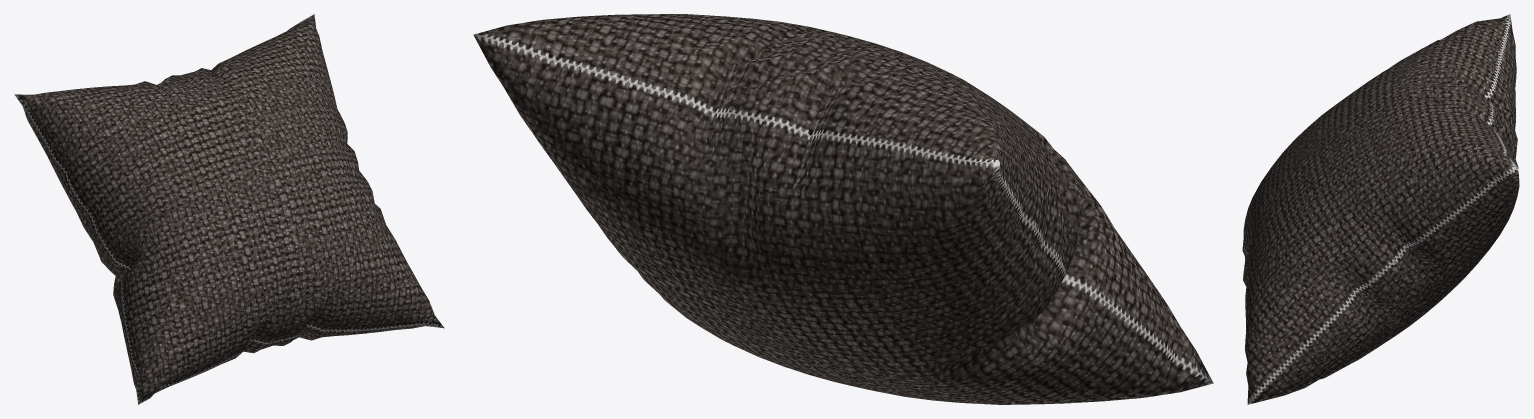
Rendered from cushion 2.fbx.
3 views of the same model, side by side, from view 1: azimuth 30°, elevation 25°; view 2: azimuth 150°, elevation 25°; view 3: azimuth 270°, elevation 25° (orthographic). The views are drawn at different scales.
Parts seen in each view (by area): view 1: cushion 2; view 2: cushion 2; view 3: cushion 2.
Boxes of the visible parts, x1,y1,x2,y2 form: cushion 2: (14,14,444,404); cushion 2: (473,14,1213,404); cushion 2: (1242,14,1519,404).
Bounding box in the file's own units: 0.3616 × 0.4916 × 0.3551.
